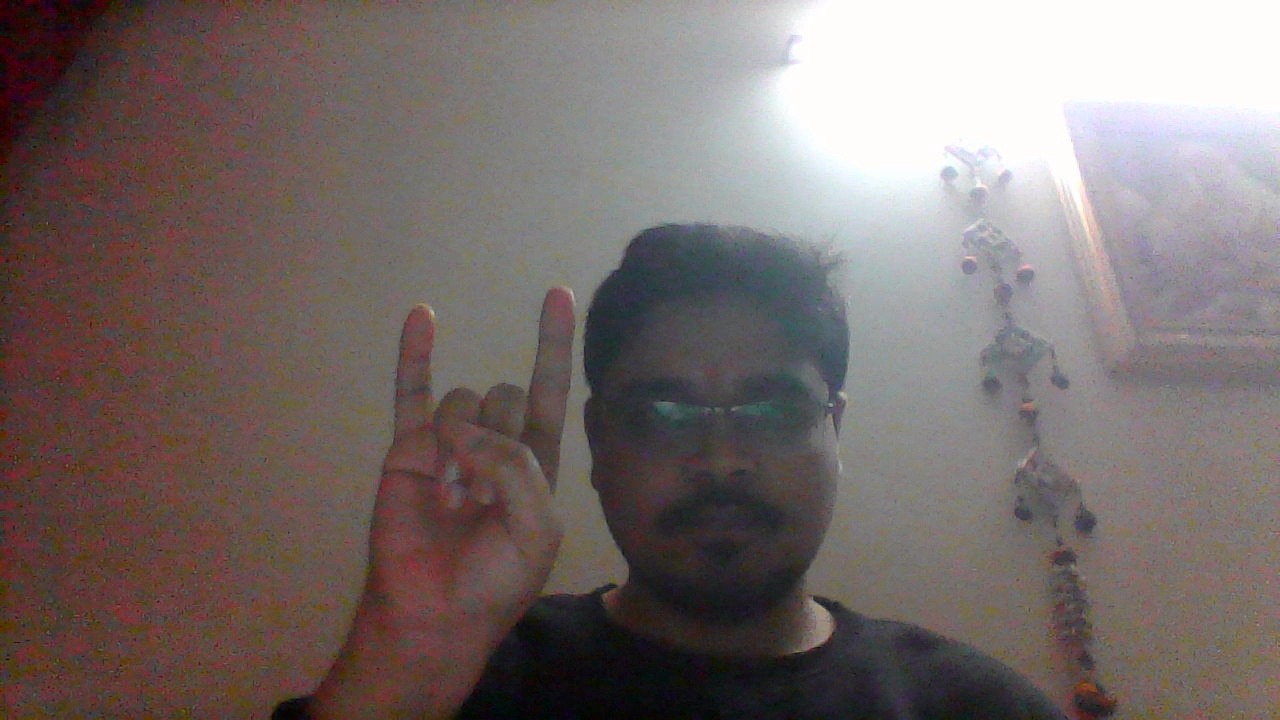ILoveYou: (363, 284, 582, 659)
